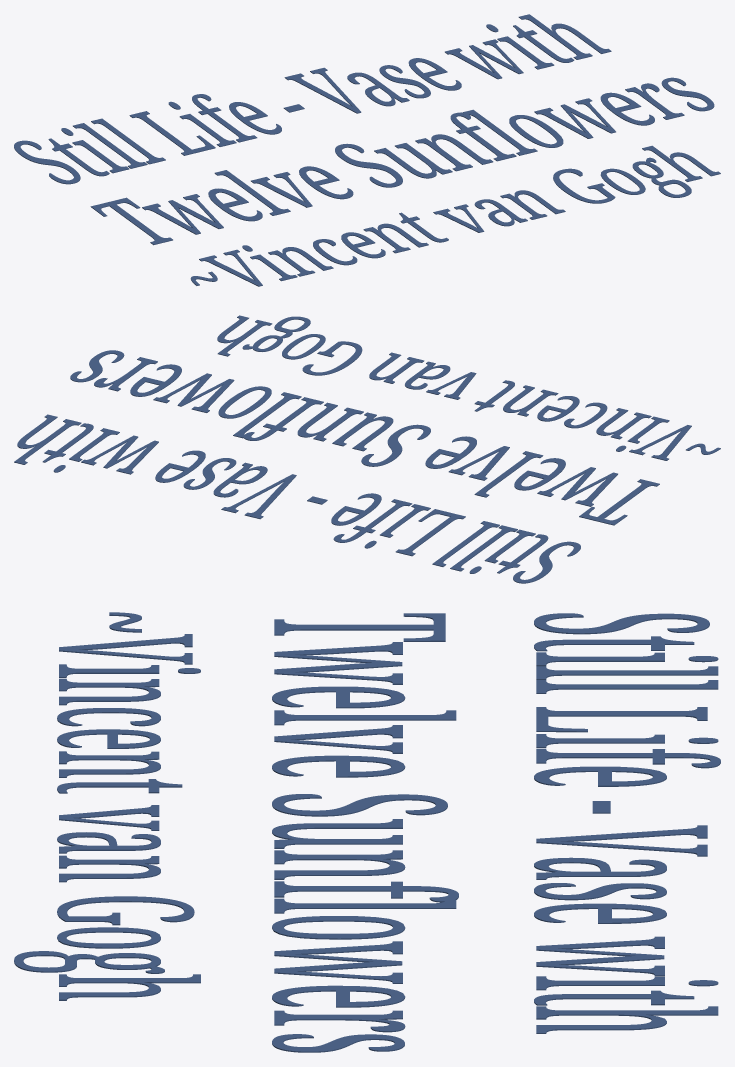
Rendered from sun info text.glb.
The picture shows the model from 3 angles, top to bottom: view 1: azimuth 30°, elevation 25°; view 2: azimuth 150°, elevation 25°; view 3: azimuth 270°, elevation 25°; orthographic projection. The views are drawn at different scales.
Parts seen in each view (by area): view 1: Mesh_Mesh_head_geo.001_lambert2SG.001; view 2: Mesh_Mesh_head_geo.001_lambert2SG.001; view 3: Mesh_Mesh_head_geo.001_lambert2SG.001.
Boxes of the visible parts, <box> form: Mesh_Mesh_head_geo.001_lambert2SG.001: <box>14,14,720,286</box>; Mesh_Mesh_head_geo.001_lambert2SG.001: <box>14,315,720,583</box>; Mesh_Mesh_head_geo.001_lambert2SG.001: <box>14,612,720,1052</box>.
Size of the model in its own units: 186 by 0.2236 by 127.
